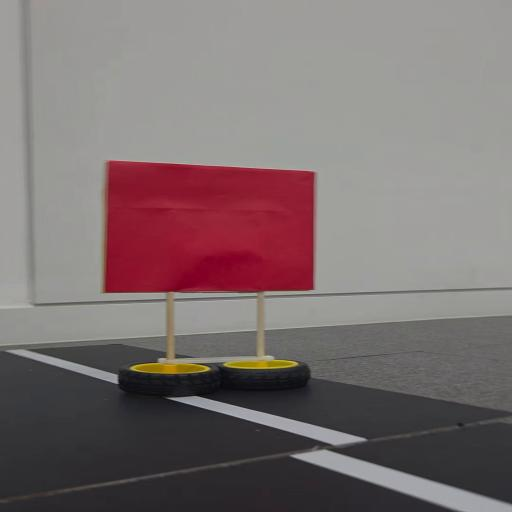Sign_A: (92, 158, 343, 404)
